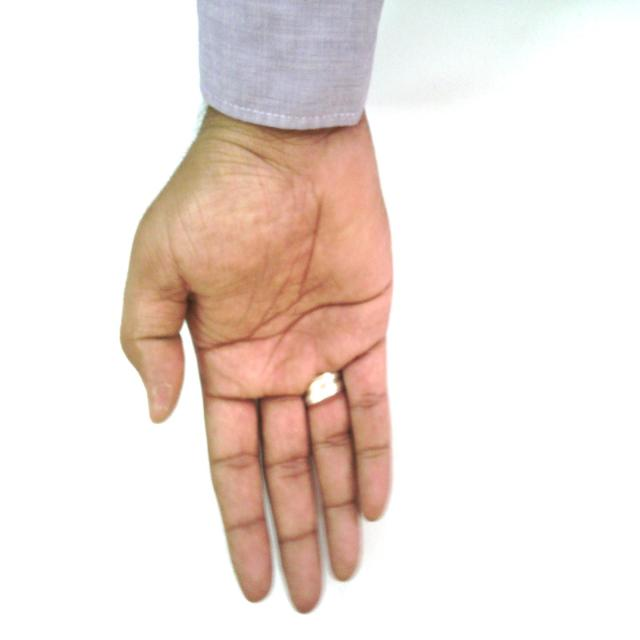hand: (114, 162, 404, 611)
